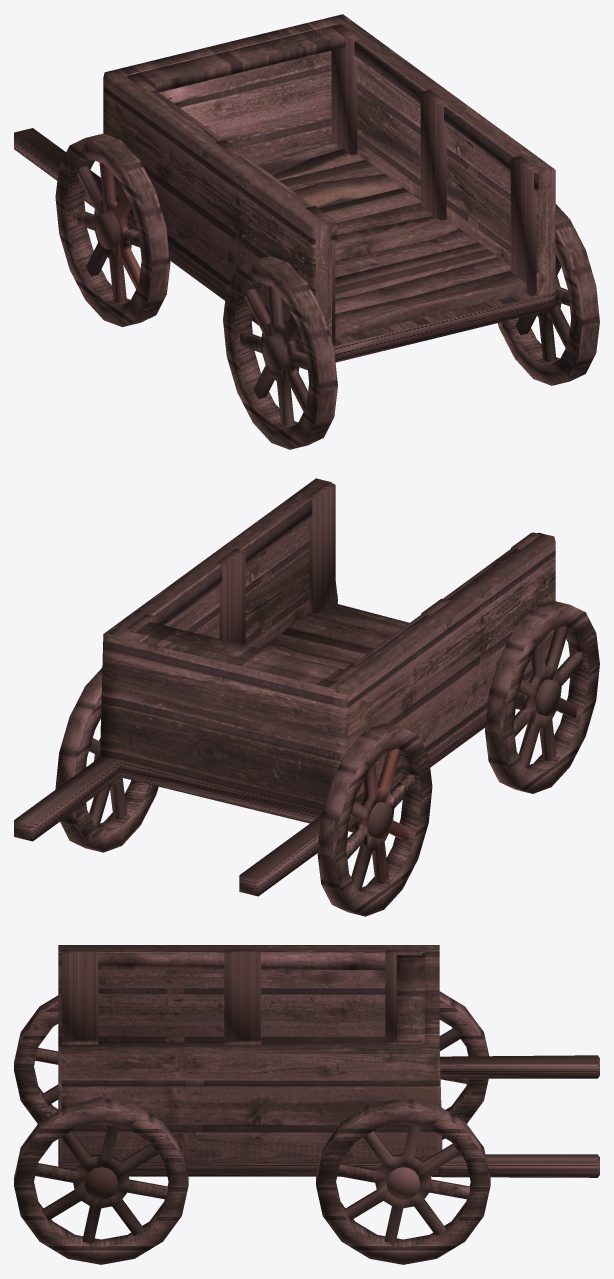
The model's file is Carroca.fbx.
3 views of the same model, one above another, from view 1: azimuth 30°, elevation 25°; view 2: azimuth 150°, elevation 25°; view 3: azimuth 270°, elevation 25° (orthographic). The views are drawn at different scales.
Visible parts, largest first — view 1: Carroca; view 2: Carroca; view 3: Carroca.
Boxes of the visible parts, x1,y1,x2,y2 form: Carroca: (14,14,599,449); Carroca: (14,478,599,916); Carroca: (14,945,599,1264).
Size of the model in its own units: 352 by 706 by 274.
